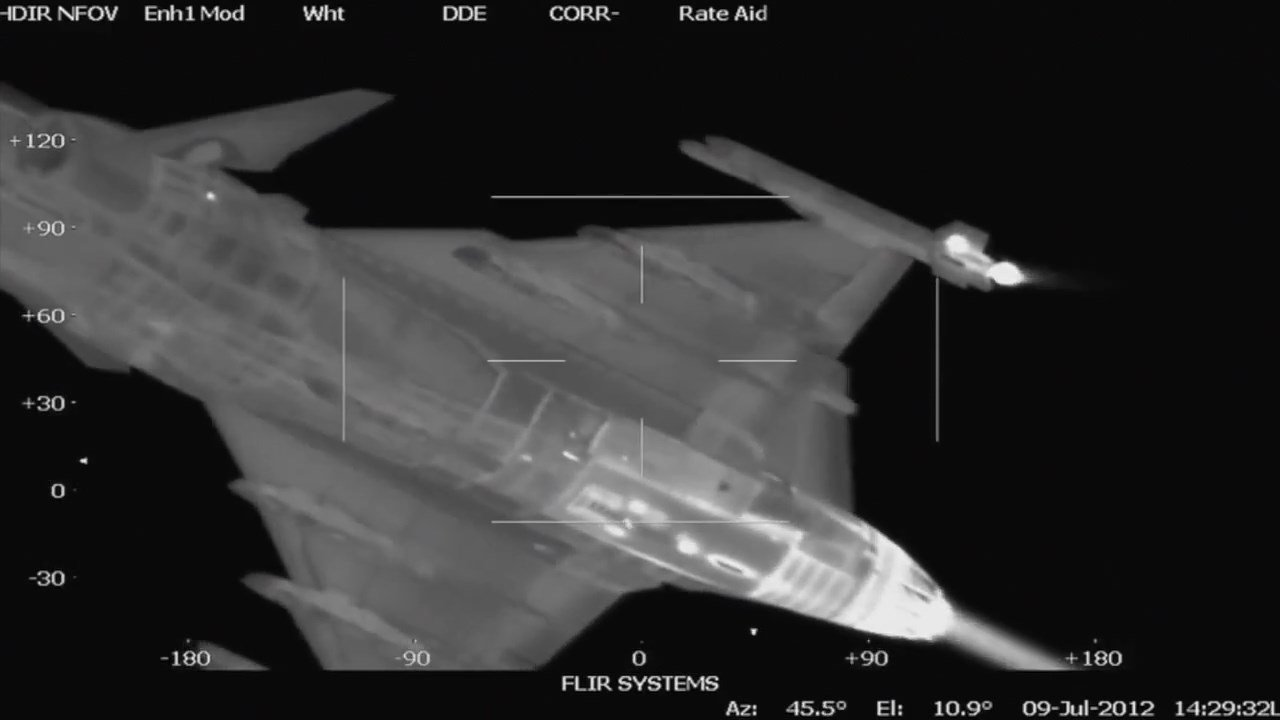JAS39: (1, 79, 993, 670)
